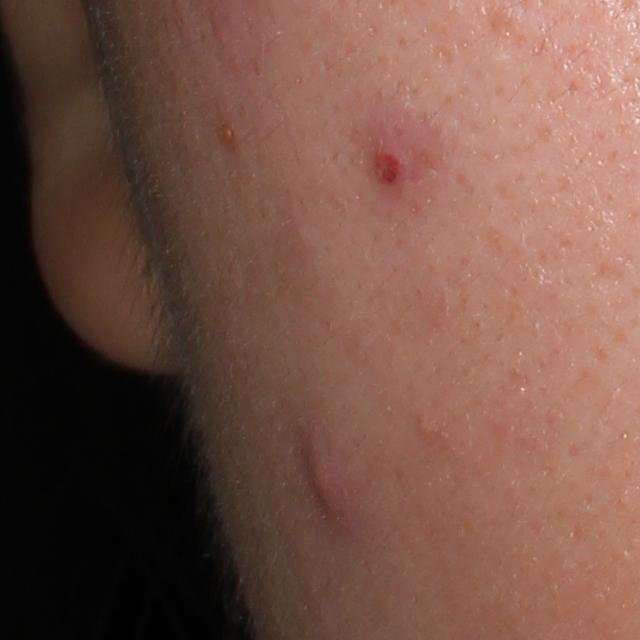papule: (302, 443, 357, 524), (371, 139, 412, 194), (412, 411, 445, 443), (214, 119, 239, 149)
